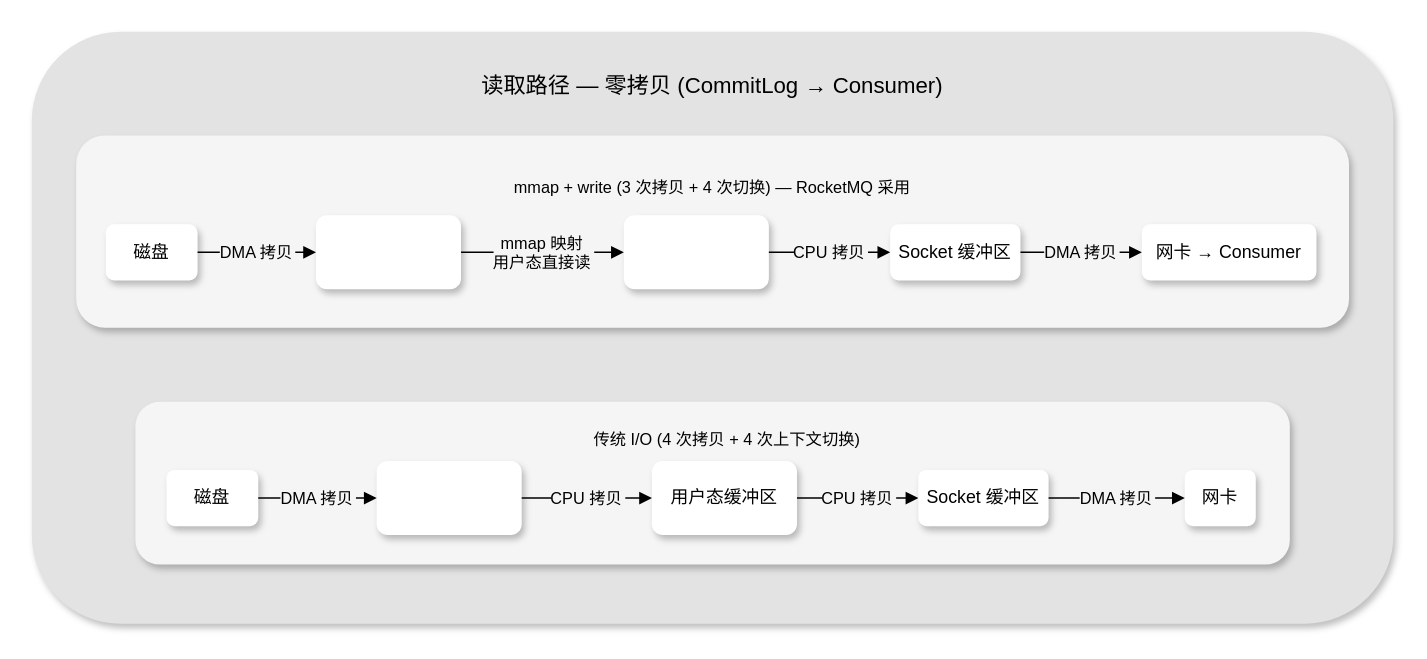
Image size: 1427x659. Some labels were removed from this diagram. Each missing label, with the centre of its shape:
PageCache (内核态): the point at 389,254
内核缓冲区: the point at 450,499
用户态 (共享内存): the point at 697,254
